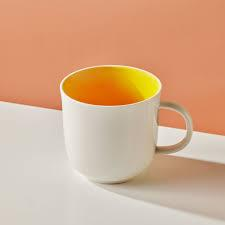Mug: (29, 35, 209, 200)
